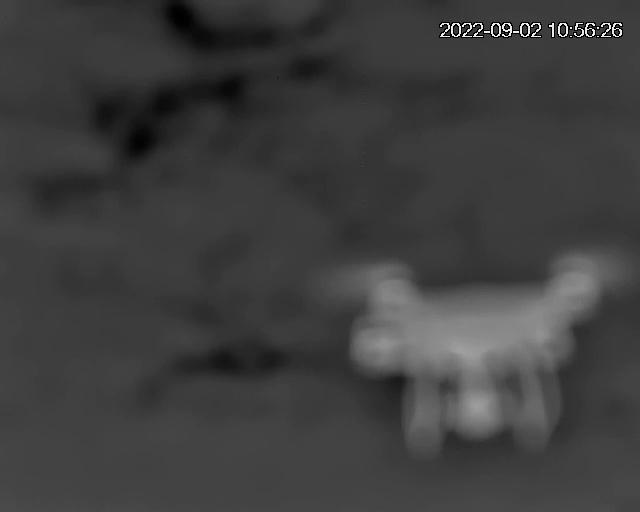DJI-Phantom: (352, 270, 595, 456)
